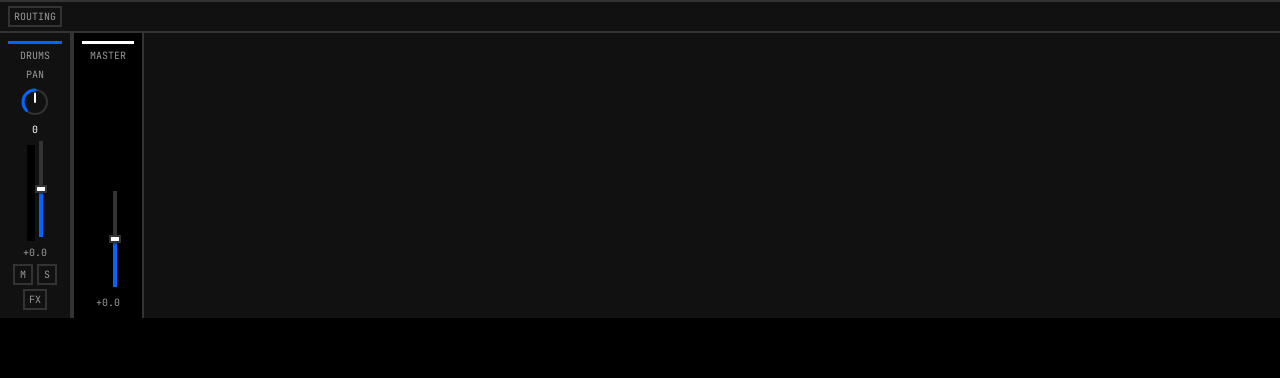
Test: MixerPanel › shows EffectsRack when FX button is clicked
This screenshot has width=1280, height=378.
Click the button with aria-label "Toggle effects for Drums" at {"x": 35, "y": 300}, box [23,289,47,310]
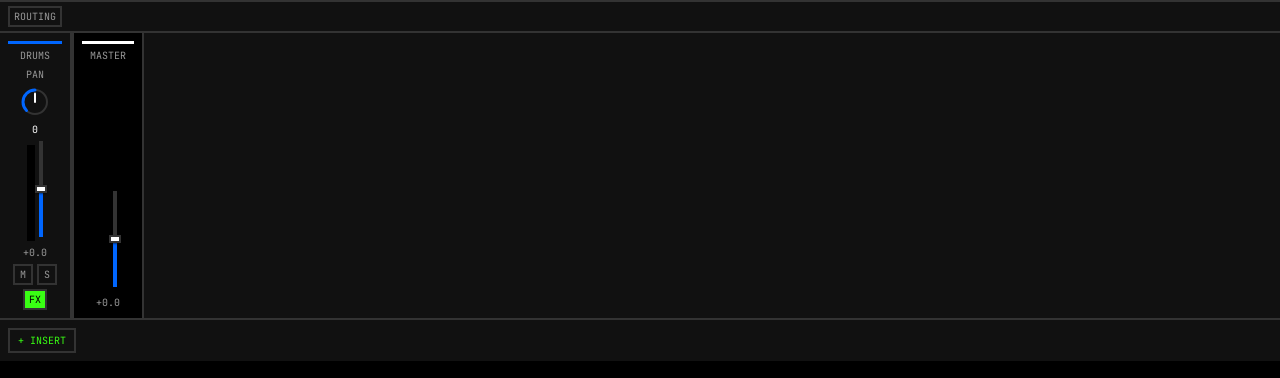
Expected: the element with test id "effects-rack" is shown, [0,318,1279,361]
